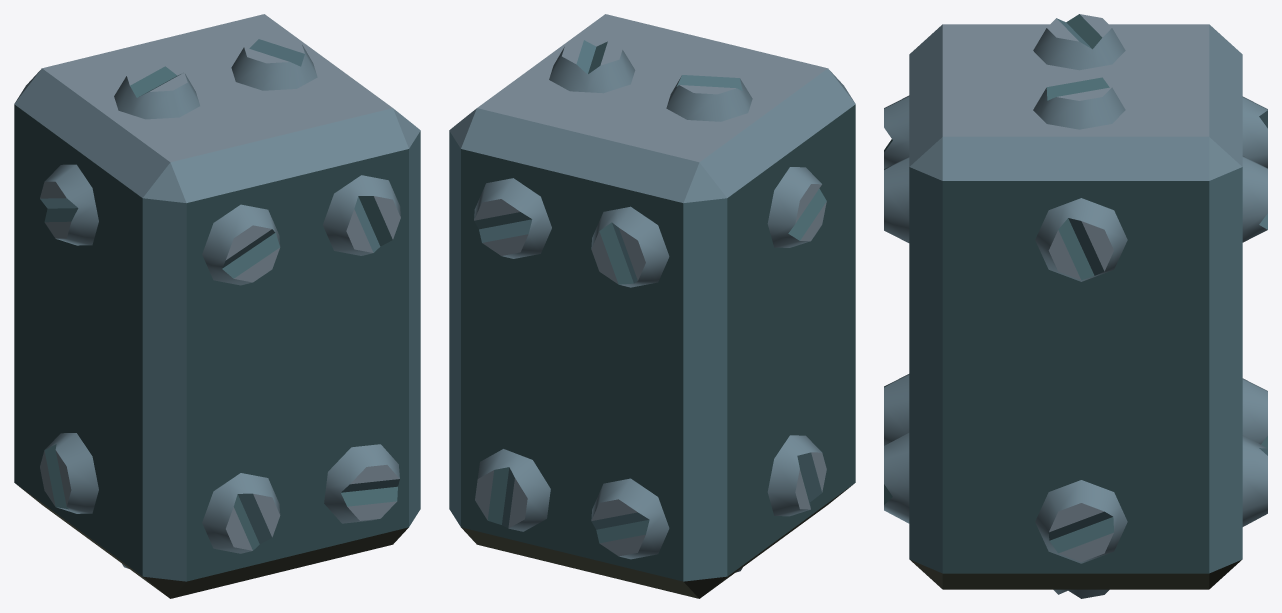
The model's file is m_kub_metal_vrickMid.FBX.
3 renders of one model, left to right at view 1: azimuth 30°, elevation 25°; view 2: azimuth 150°, elevation 25°; view 3: azimuth 270°, elevation 25°, orthographic. The views are drawn at different scales.
Visible parts, largest first — view 1: m_kub_metal_vrickMid; view 2: m_kub_metal_vrickMid; view 3: m_kub_metal_vrickMid.
Part boxes in pixels (x1,y1,x2,y2): m_kub_metal_vrickMid: [14, 14, 420, 598]; m_kub_metal_vrickMid: [449, 14, 855, 598]; m_kub_metal_vrickMid: [884, 14, 1267, 598].
Size of the model in its own units: 1.15 by 1.65 by 1.15.
